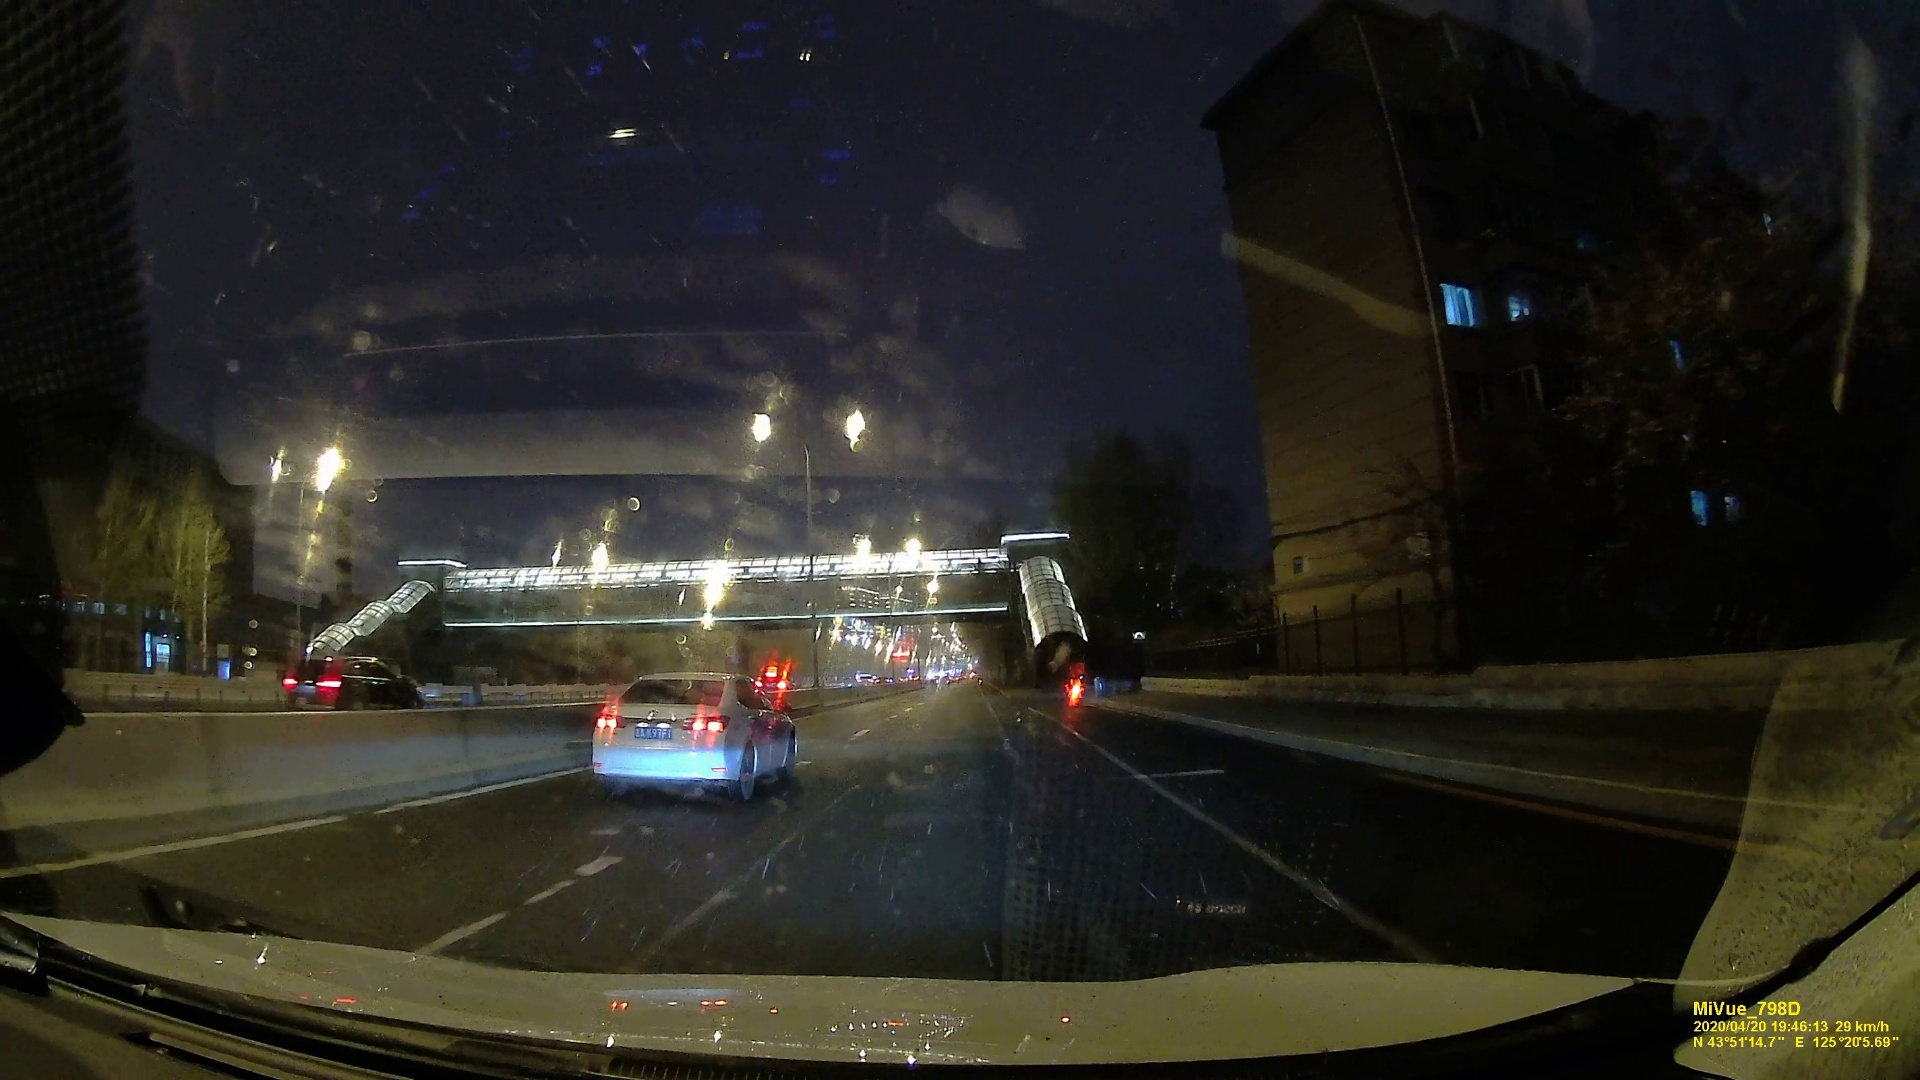vehicle: (595, 670, 799, 796), (281, 651, 427, 705)
